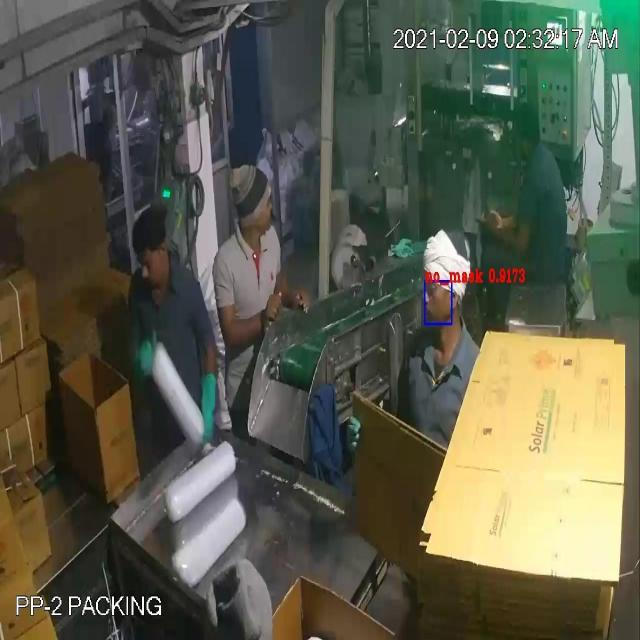Gloves: (35, 58, 514, 404)
